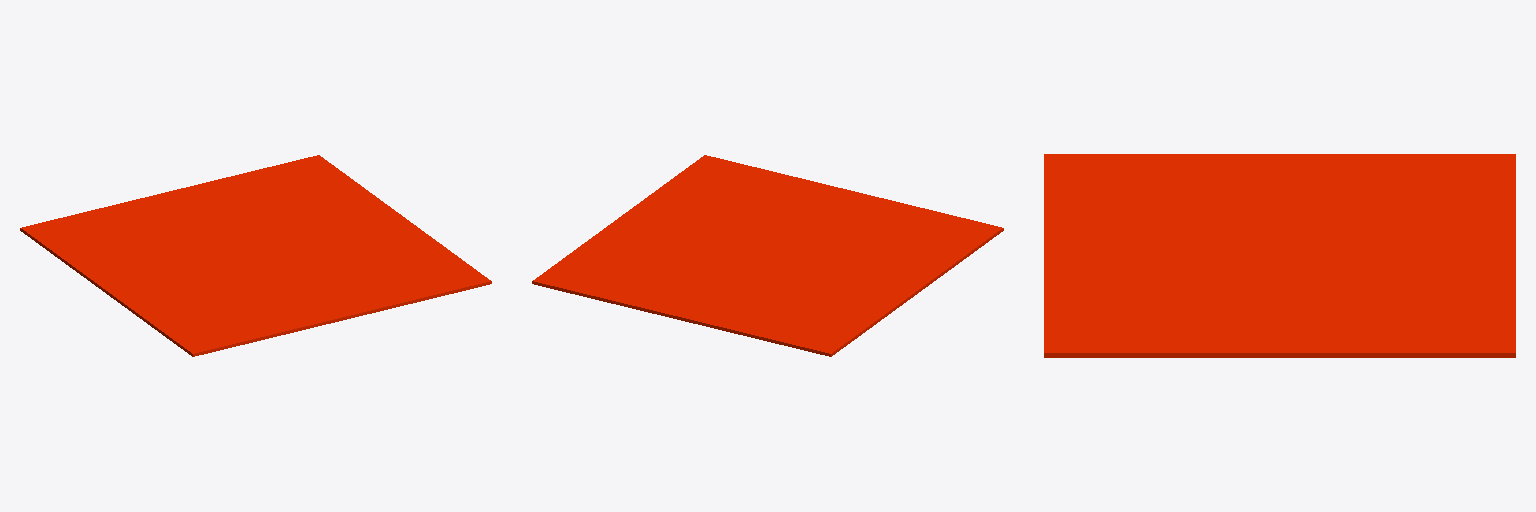
URDF robot description (ar_2020):
<robot name="ar_2020">

	<!-- * * * Link Definitions * * * -->

    <link name="simple_box_base_link">
 	    <inertial>
            <origin xyz="0 0 0" rpy="0 0 0"/>
            <mass value="1.0" />
            <inertia ixx="0.0741666666667" ixy="0.0" ixz="0.0" iyy="0.0585416666667" iyz="0.0" izz="0.0260416666667"/>
        </inertial>
        <collision>
            <origin xyz="0 0 0" rpy="0 0 0"/>
            <geometry>
                <box size="0.2 0.2 0.2"/>
            </geometry>
        </collision>
        <visual>
            <origin rpy="0.0 0 0" xyz="0 0 0"/>
            <geometry>
                <!--<box size="0.8 0.8 0.2"/>-->
                <mesh filename="package://my_robot/meshes/ar_2020_v2.dae"/>
            </geometry>
        </visual>
    </link>
    
    <gazebo reference="simple_box_base_link">
        <kp>100000.0</kp>
        <kd>100000.0</kd>
        <mu1>0.1</mu1>
        <mu2>0.1</mu2>
        <fdir1>1 0 0</fdir1>
    </gazebo>

</robot>

--- What the picture shows (computed from the rendered views, not written in the file) ---
Views: 3 orthographic renders of the robot side by side, from view 1: azimuth 30°, elevation 25°; view 2: azimuth 150°, elevation 25°; view 3: azimuth 270°, elevation 25°.
Model ar_2020 with 1 links and 0 joints (none), rooted at simple_box_base_link, posed all joints at 0.
Links seen in each view (by area): view 1: simple_box_base_link; view 2: simple_box_base_link; view 3: simple_box_base_link.
Boxes of the visible links, left/top/right/bottom form: simple_box_base_link: left=20, top=155, right=491, bottom=356; simple_box_base_link: left=532, top=155, right=1003, bottom=356; simple_box_base_link: left=1044, top=154, right=1515, bottom=357.
Size in the robot's own frame: 127 by 127 by 1.27 metres.
Meshes: 1 distinct files referenced, 1 mesh visuals loaded (1 Collada DAE).